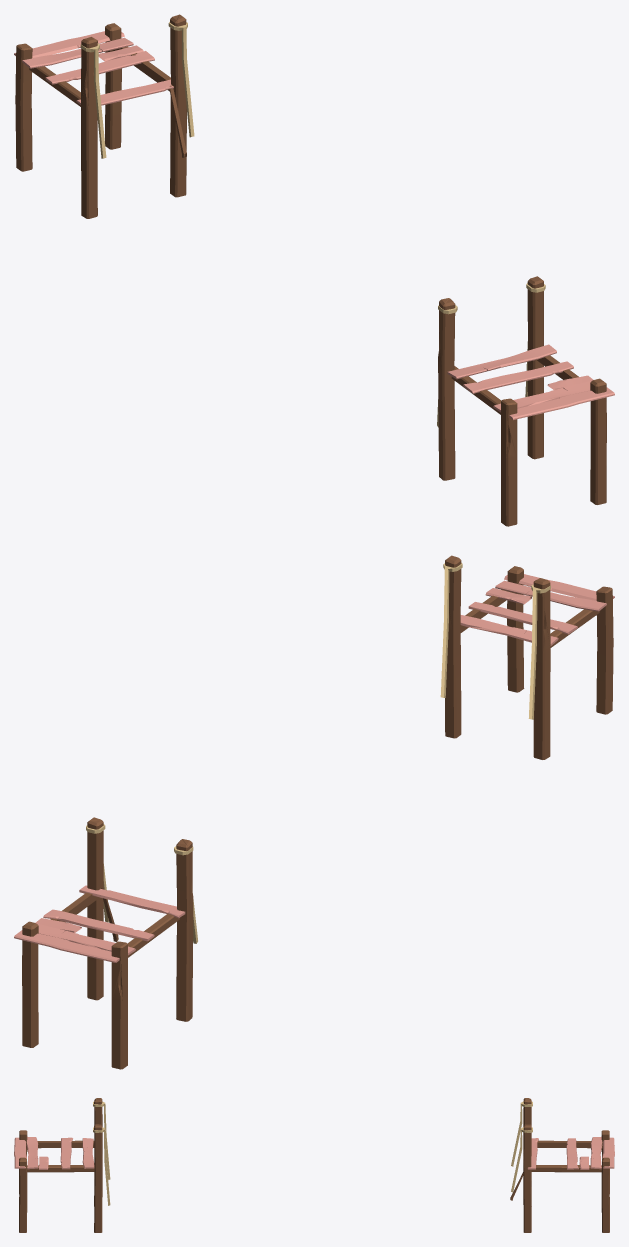
File: Bridge_broken.fbx
3 renders of one model, top to bottom at view 1: azimuth 30°, elevation 25°; view 2: azimuth 150°, elevation 25°; view 3: azimuth 270°, elevation 25°, orthographic. The views are drawn at different scales.
Parts seen in each view (by area): view 1: Bridge, Bridge.001; view 2: Bridge, Bridge.001; view 3: Bridge, Bridge.001.
Part boxes in pixels (x1,y1,x2,y2): Bridge: (14, 14, 614, 526); Bridge.001: (80, 22, 545, 427); Bridge: (14, 555, 614, 1069); Bridge.001: (86, 562, 550, 943); Bridge: (14, 1098, 614, 1232); Bridge.001: (93, 1101, 532, 1205).
Size of the model in its own units: 238 by 384 by 1967.
